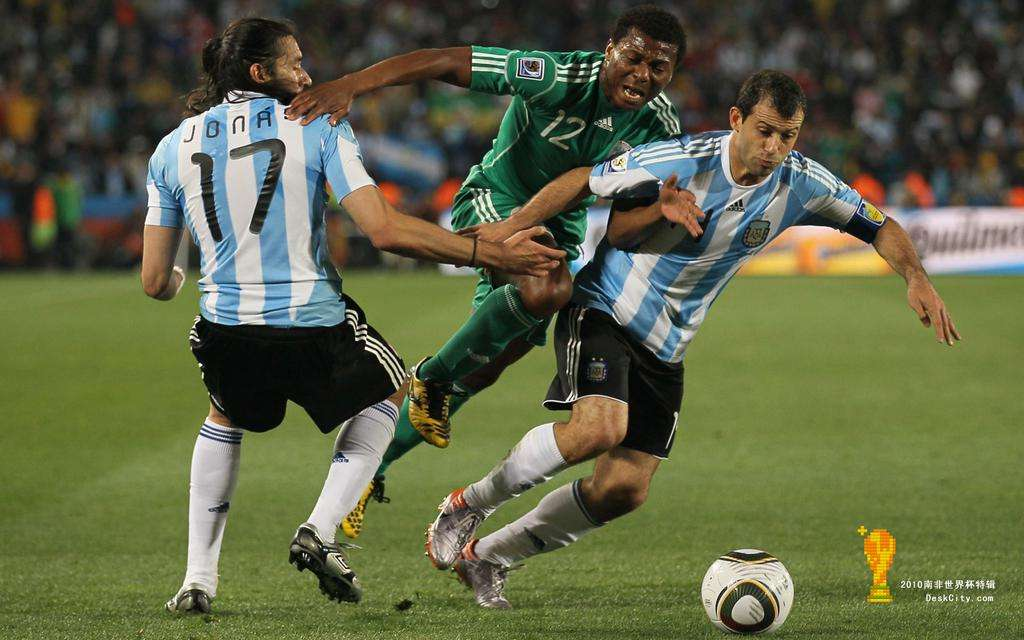football: (700, 542, 797, 636)
